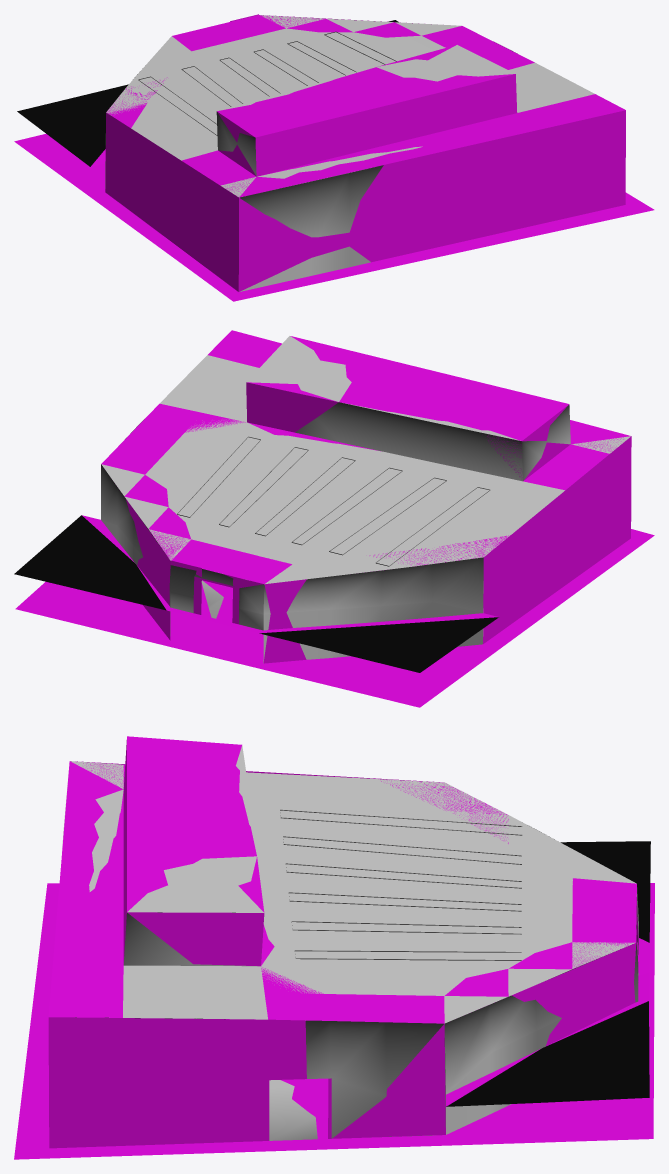
File: office_obstacle_room.fbx
3 views of the same model, one above another, from view 1: azimuth 30°, elevation 25°; view 2: azimuth 150°, elevation 25°; view 3: azimuth 270°, elevation 25° (orthographic). The views are drawn at different scales.
Visible parts, largest first — view 1: walls1, ceiling (×2), TopCeiling (×2), floor22, walls, floor23, TopCeiling1, walls3; view 2: ceiling (×2), TopCeiling (×2), walls1, floor22, floor23, walls, walls3, TopCeiling1; view 3: ceiling (×2), walls1, TopCeiling (×2), floor22, floor23, walls, TopCeiling1, walls3, floor, Lights2, Lights1, LongLights:Lights1 (+3 smaller).
Boxes of the visible parts, x1,y1,x2,y2 form: walls1: [105, 15, 625, 291]; ceiling (×2): [106, 15, 625, 197]; TopCeiling (×2): [216, 45, 517, 176]; floor22: [14, 134, 654, 301]; walls: [105, 50, 517, 237]; floor23: [17, 20, 398, 166]; TopCeiling1: [218, 45, 515, 110]; walls3: [105, 163, 370, 291]; ceiling (×2): [101, 330, 630, 584]; TopCeiling (×2): [246, 336, 570, 481]; walls1: [116, 436, 631, 663]; floor22: [15, 529, 654, 707]; floor23: [14, 515, 498, 672]; walls: [101, 419, 483, 614]; walls3: [101, 520, 483, 663]; TopCeiling1: [246, 336, 520, 440]; ceiling (×2): [48, 761, 636, 1023]; walls1: [48, 761, 638, 1148]; TopCeiling (×2): [123, 736, 264, 966]; floor22: [14, 883, 654, 1159]; floor23: [446, 841, 650, 1106]; walls: [75, 828, 638, 1098]; TopCeiling1: [127, 745, 263, 912]; walls3: [331, 926, 638, 1138]; floor: [269, 1080, 317, 1140]; Lights2: [294, 950, 521, 960]; Lights1: [291, 921, 521, 934]; LongLights:Lights1: [288, 892, 521, 911].
Size of the model in its own units: 153 by 46.75 by 149.
